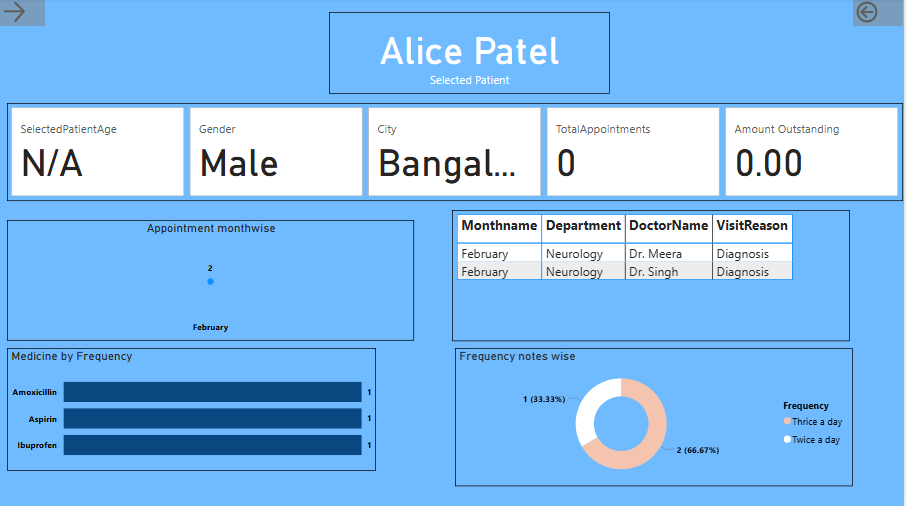

This screenshot's page, from the dashboard's own definition file:
{"tool":"powerbi","page":{"name":"patient detail","canvas":[1280,720],"ordinal":1},"visuals":[{"type":"card","fields":{"Values":["Appointments.Selected Patient"]},"box":[466.3,19.8,398.3,116.2],"z":0},{"type":"cardVisual","fields":{"Data":["Patients.SelectedPatientAge","Appointments.Gender","Min(Patients.City)","Appointments.TotalAppointments","Appointments.Amount Outstanding"]},"box":[9.9,148.8,1269.9,138.9],"z":1000},{"type":"lineChart","title":"Appointment monthwise","fields":{"Y":["CountNonNull(Appointments.AppointmentID)"],"Category":["Appointments.Monthname"]},"box":[9.9,314.6,576.9,171.5],"z":2000},{"type":"tableEx","fields":{"Values":["Appointments.Monthname","Appointments.Department","Doctors.DoctorName","Appointments.VisitReason"]},"box":[640.6,300.5,564.1,185.7],"z":3000},{"type":"barChart","title":"Medicine by Frequency","fields":{"Category":["Prescriptions.MedicineName"],"Y":["CountNonNull(Prescriptions.Frequency)"]},"box":[9.9,496.1,523,174.3],"z":4000},{"type":"donutChart","title":"Frequency notes wise","fields":{"Category":["Prescriptions.Frequency"],"Y":["CountNonNull(Prescriptions.Notes)"]},"box":[644.9,496.1,564.1,195.6],"z":5000},{"type":"actionButton","box":[1209,0,70.9,39.7],"z":7001},{"type":"actionButton","box":[0,0,63.8,39.7],"z":7002}]}

Visuals, with their boxes in screenshot pixels (x1, y1, x2, y2), scaled from the page's 1280x720 canvas onto the 906x506 screenshot:
card - Appointments.Selected Patient: left=330, top=14, right=612, bottom=96
cardVisual - Patients.SelectedPatientAge x Appointments.Gender: left=7, top=105, right=905, bottom=202
"Appointment monthwise" lineChart: left=7, top=221, right=415, bottom=342
tableEx - Appointments.Monthname x Appointments.Department: left=453, top=211, right=853, bottom=342
"Medicine by Frequency" barChart: left=7, top=349, right=377, bottom=471
"Frequency notes wise" donutChart: left=456, top=349, right=856, bottom=486
actionButton: left=856, top=0, right=905, bottom=28
actionButton: left=0, top=0, right=45, bottom=28
